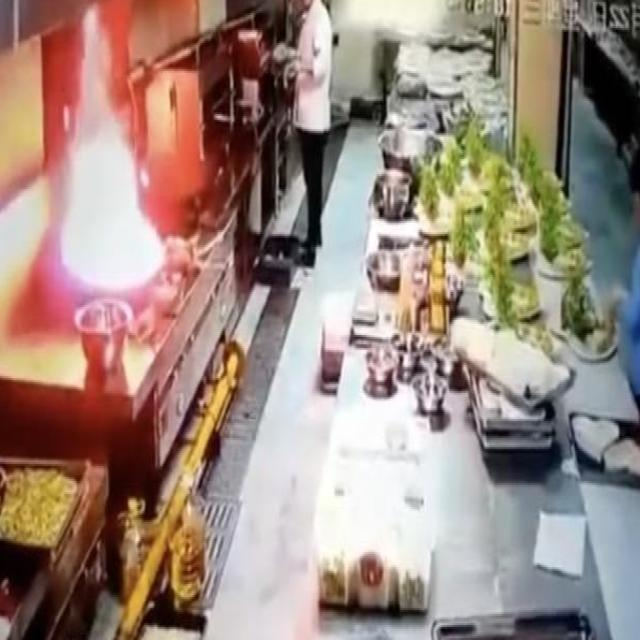smoke: (51, 34, 168, 279)
